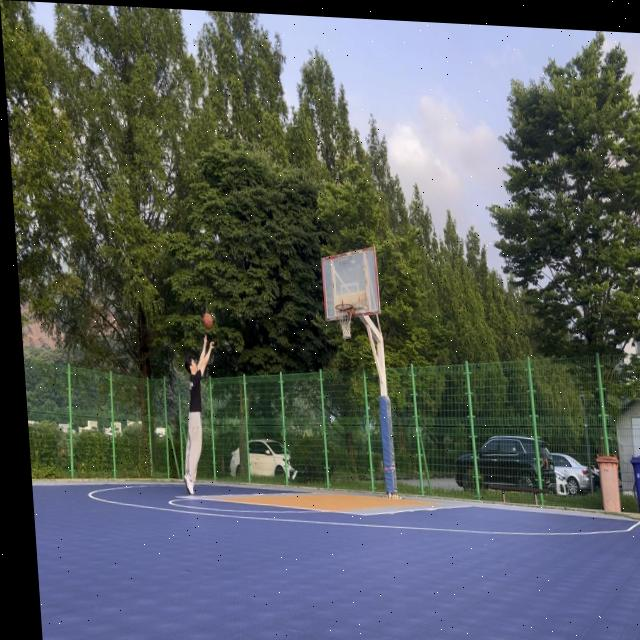basketball: (202, 311, 214, 330)
hoop: (335, 303, 356, 341)
